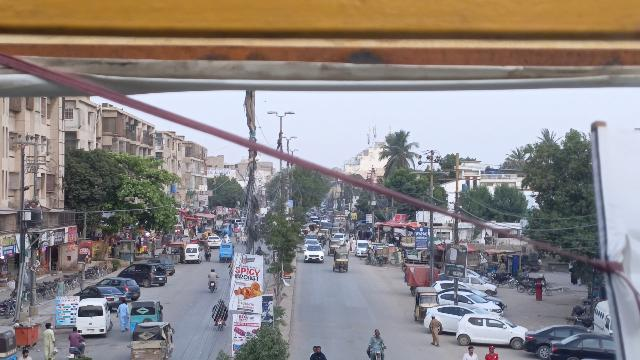Bike: (65, 345, 84, 360), (368, 346, 387, 360), (214, 315, 226, 334), (206, 280, 218, 296)
Car: (455, 311, 528, 348), (523, 324, 594, 359), (423, 303, 474, 334), (116, 261, 166, 288), (74, 286, 123, 306), (97, 275, 141, 297), (303, 244, 325, 265)
Person: (40, 321, 61, 360), (425, 313, 443, 347), (115, 298, 131, 332), (67, 327, 84, 348), (369, 327, 385, 349), (212, 296, 228, 316), (460, 343, 478, 360), (484, 342, 499, 360), (207, 267, 220, 283), (314, 343, 325, 360)
Rickshaw: (131, 322, 174, 360), (129, 299, 164, 328), (411, 285, 438, 321), (332, 248, 350, 275), (218, 243, 235, 263)
Van: (76, 297, 112, 337), (183, 244, 202, 265)
